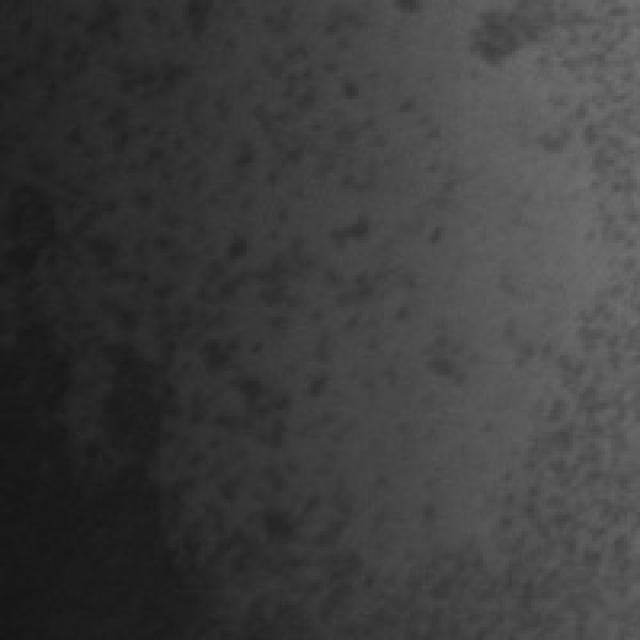pitted_surface: (54, 0, 381, 595), (394, 0, 640, 637), (4, 310, 182, 637)
